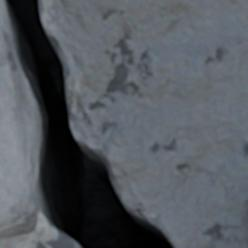broken_brick: (0, 26, 39, 239)
crack: (0, 0, 247, 247), (0, 74, 3, 82)
